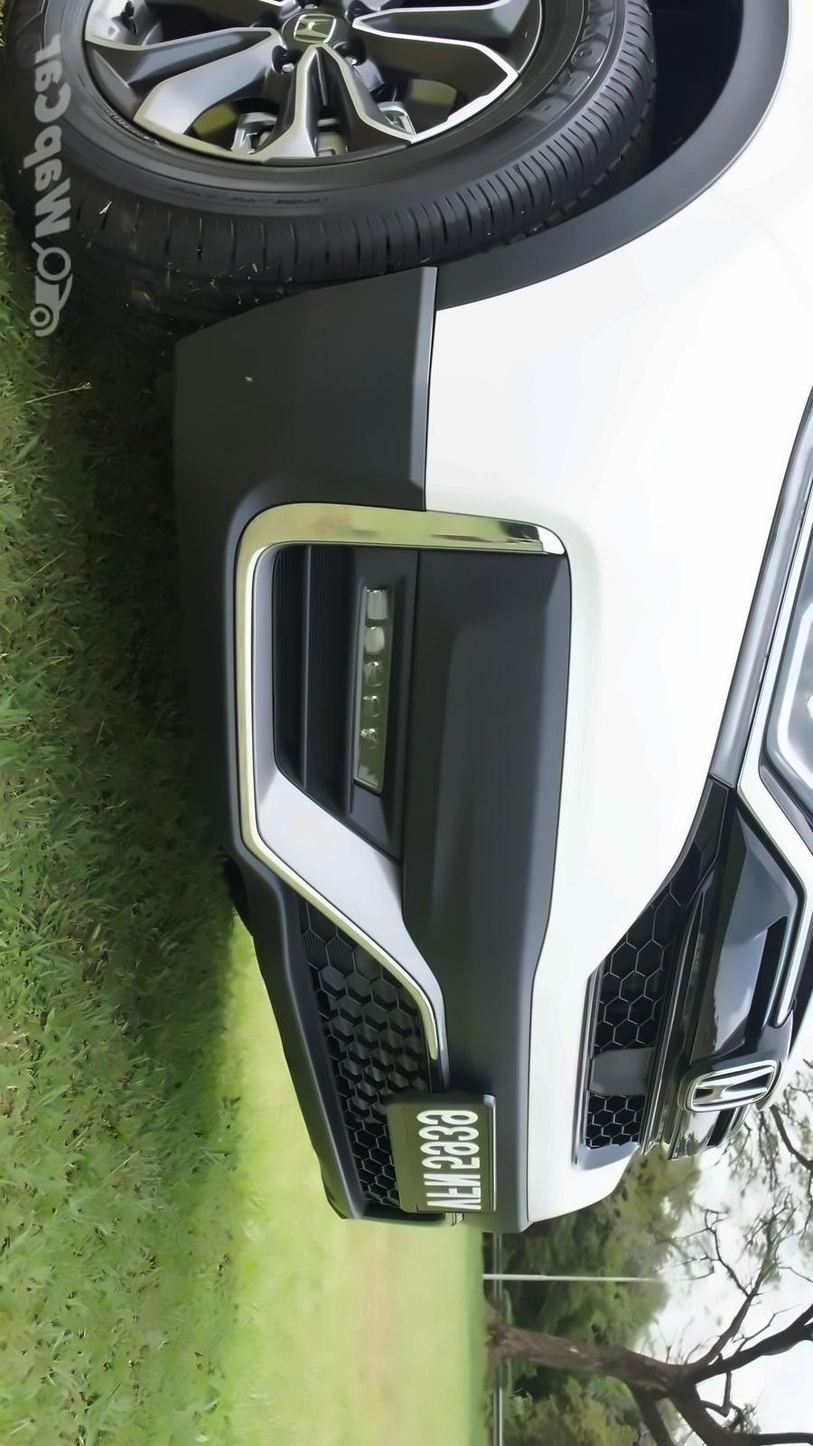Front bumper: (157, 111, 709, 1282)
Headlight - -R-: (690, 350, 813, 915)
